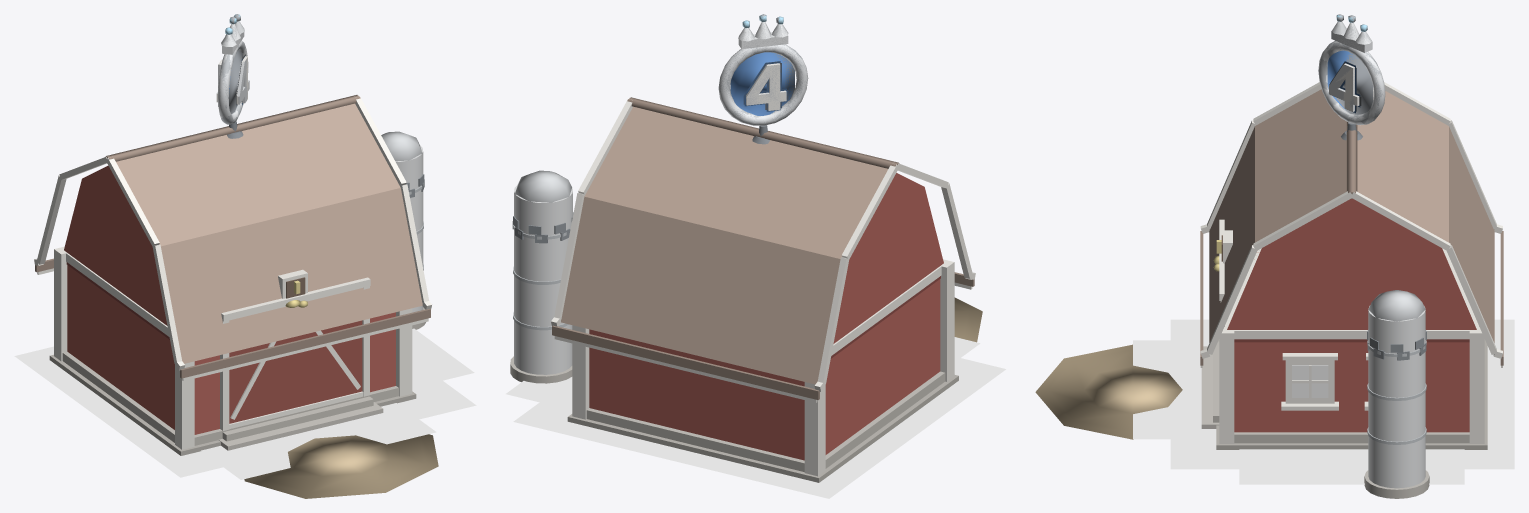
The model's file is barn_4.glb.
3 views of the same model, side by side, from view 1: azimuth 30°, elevation 25°; view 2: azimuth 150°, elevation 25°; view 3: azimuth 270°, elevation 25° (orthographic). The views are drawn at different scales.
Visible parts, largest first — view 1: body2, barn_4, body, spin_60_0; view 2: body2, barn_4, spin_60_0, body; view 3: body2, barn_4, body, spin_60_0.
Part boxes in pixels (bbox=[...]): body2: bbox=[34, 95, 438, 498]; barn_4: bbox=[14, 328, 476, 479]; body: bbox=[216, 14, 249, 124]; spin_60_0: bbox=[216, 14, 248, 123]; body2: bbox=[510, 97, 982, 482]; barn_4: bbox=[506, 337, 1005, 498]; spin_60_0: bbox=[718, 15, 808, 125]; body: bbox=[719, 14, 807, 124]; body2: bbox=[1035, 82, 1503, 498]; barn_4: bbox=[1133, 319, 1514, 484]; body: bbox=[1318, 14, 1383, 124]; spin_60_0: bbox=[1318, 15, 1385, 125].
Bounding box in the file's own units: 3.33 × 3.32 × 3.8.
